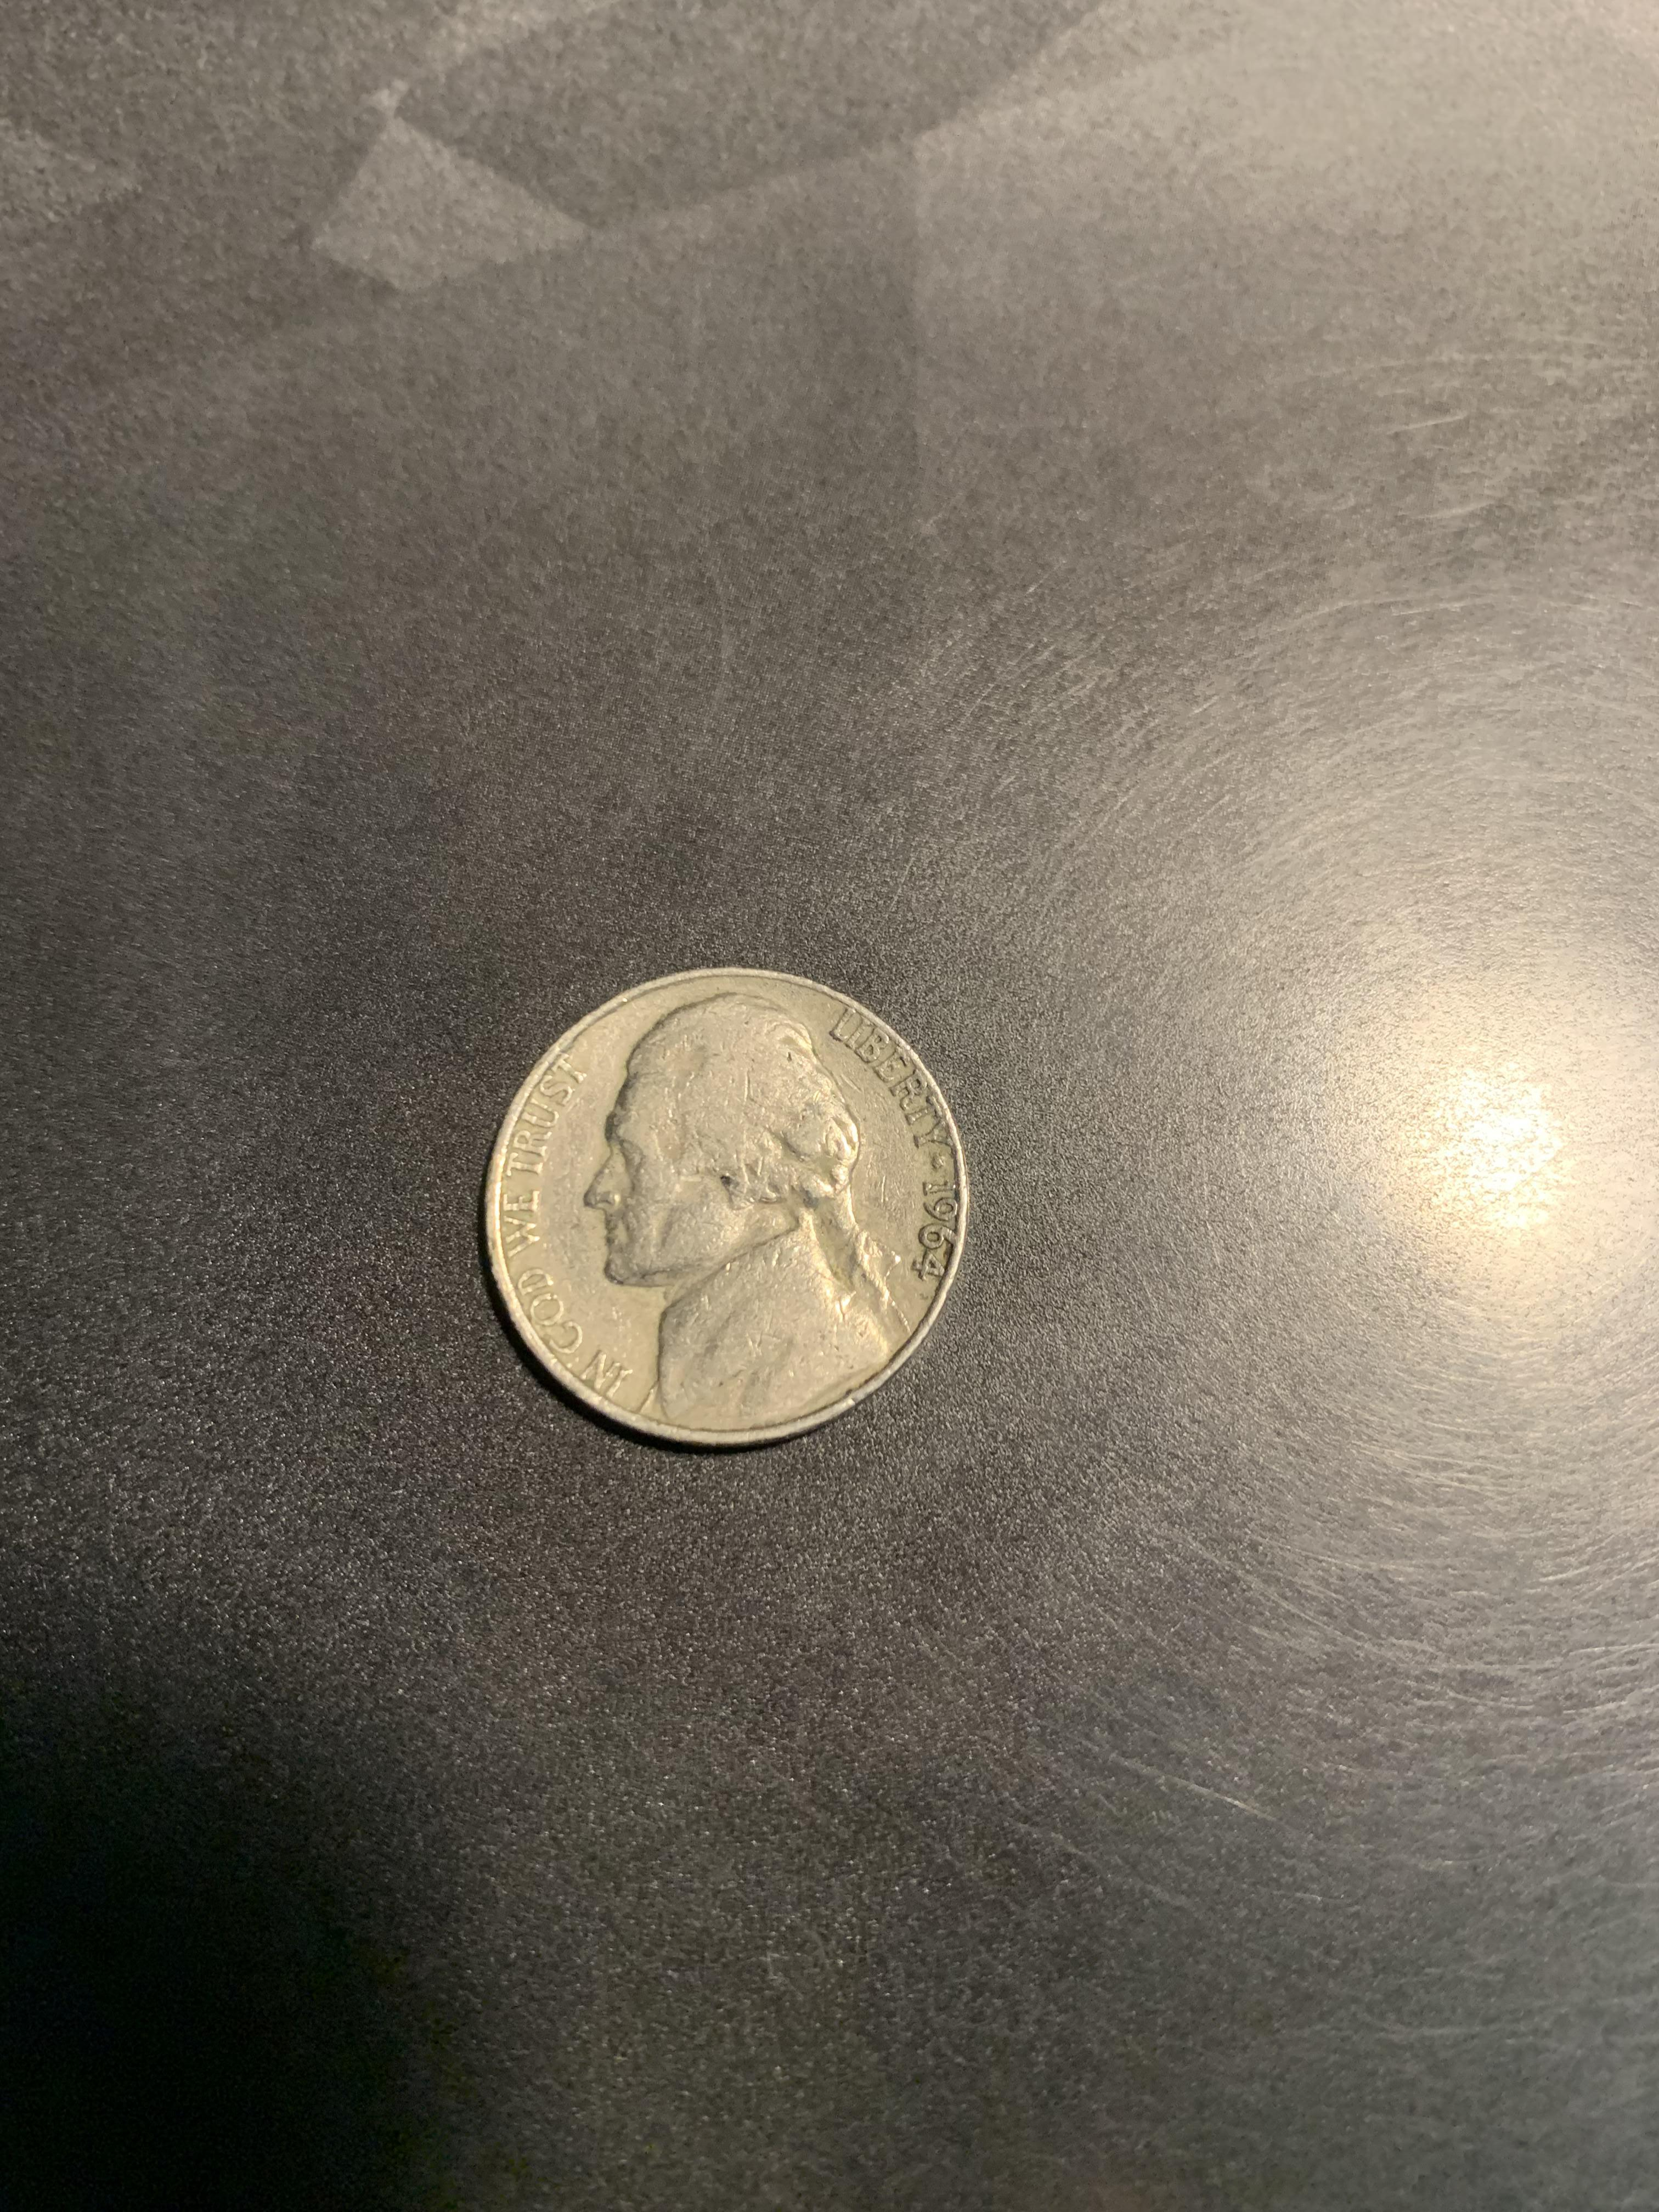Nickel: (464, 946, 1004, 1484)
